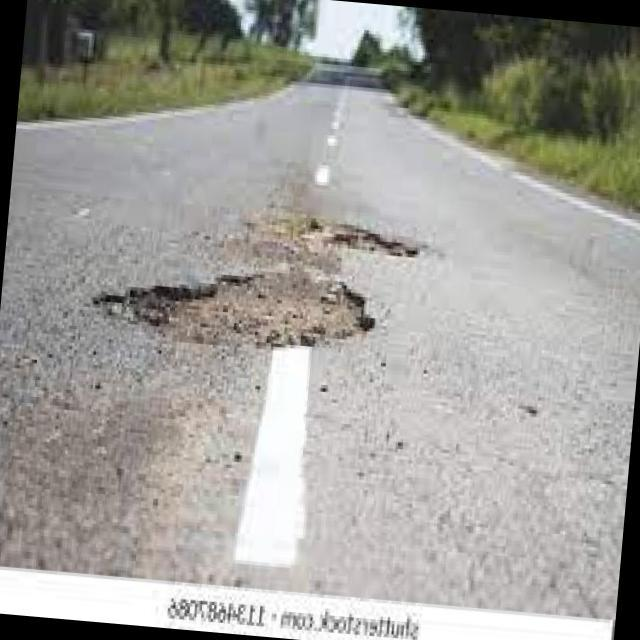Pothole: (90, 231, 417, 352)
